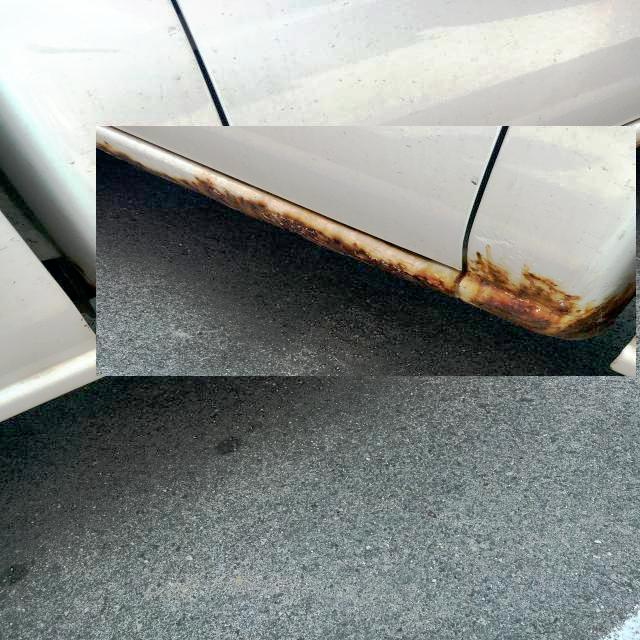Corrosion: (516, 265, 607, 338), (468, 278, 546, 334), (200, 183, 251, 216), (464, 250, 510, 286), (420, 258, 462, 294), (392, 258, 437, 286), (239, 195, 277, 224), (340, 239, 381, 264), (370, 260, 418, 280), (294, 220, 321, 244), (314, 231, 344, 252), (265, 205, 290, 230)
